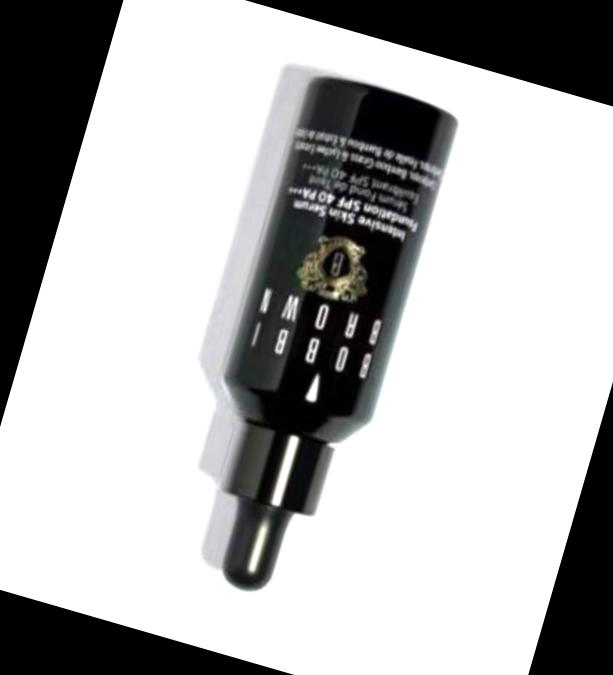cosmetic: (170, 79, 463, 613)
